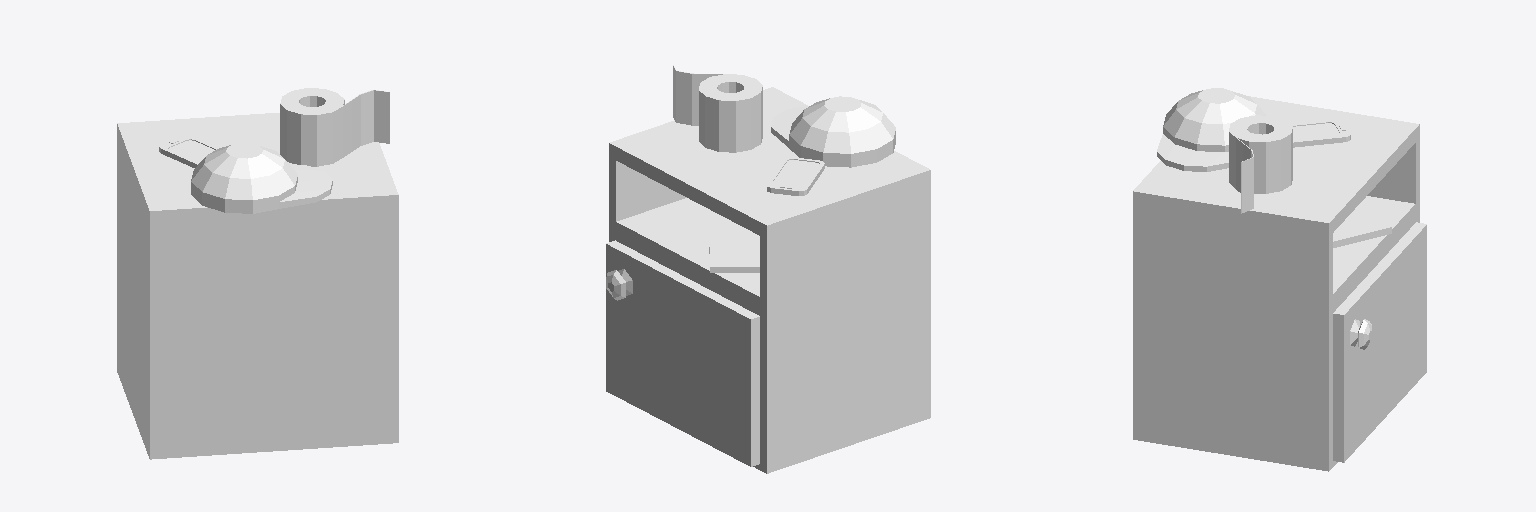
Rendered from nightstand2.obj.
3 renders of one model, left to right at view 1: azimuth 30°, elevation 25°; view 2: azimuth 150°, elevation 25°; view 3: azimuth 270°, elevation 25°, orthographic.
Visible parts, largest first — view 1: nightstand2; view 2: nightstand2; view 3: nightstand2.
Part boxes in pixels (x1,y1,x2,y2): nightstand2: (117, 88, 398, 459); nightstand2: (606, 65, 930, 473); nightstand2: (1133, 88, 1426, 471).
Bounding box in the file's own units: 94.6 × 101 × 89.72.